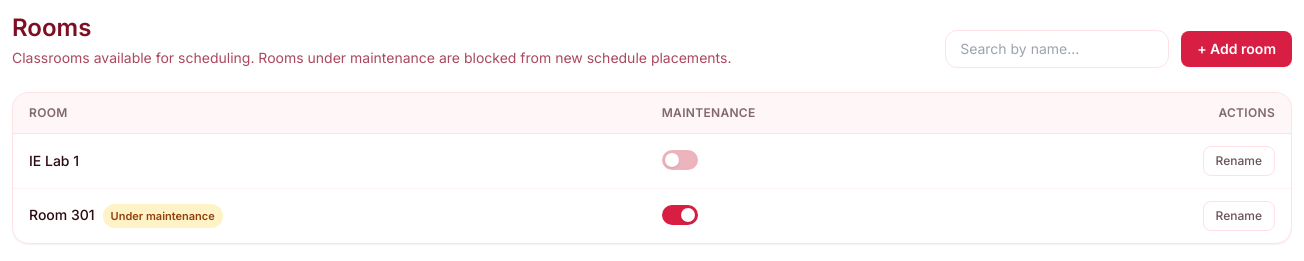
Test: RoomsPage — maintenance toggle › flips the switch and PATCHes only the maintenance flag
Click the switch named "Mark IE Lab 1 under maintenance" at (680, 160), box [662,150,698,170]
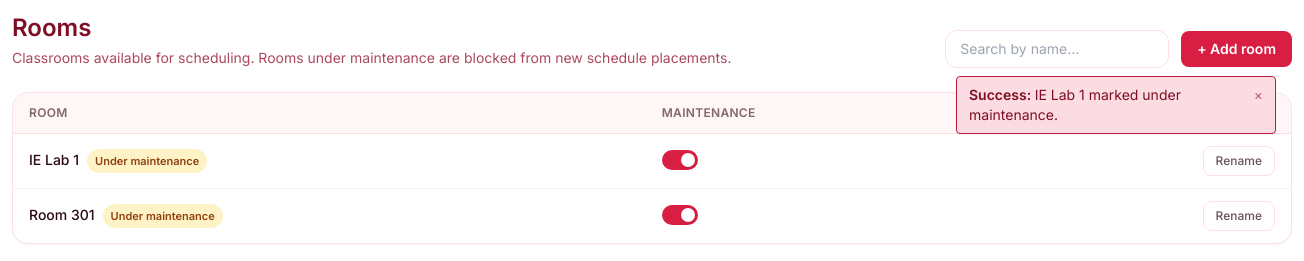
Check: the text "IE Lab 1 marked under maintenance." is shown, box [969,86,1181,123]
